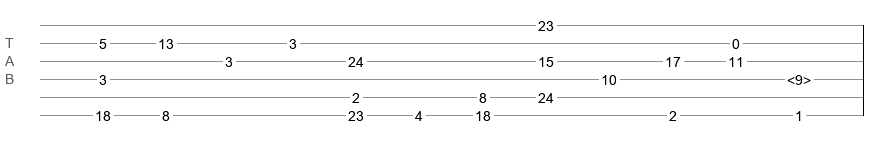0: (732, 36, 740, 46)
1: (795, 108, 803, 118)
10: (601, 72, 617, 82)
11: (728, 54, 744, 64)
13: (158, 36, 174, 46)
15: (538, 54, 554, 64)
17: (665, 54, 681, 64)
18: (95, 108, 111, 118), (475, 108, 491, 118)
2: (352, 90, 360, 100), (669, 108, 677, 118)
23: (348, 108, 364, 118), (538, 18, 554, 28)
24: (348, 54, 364, 64), (538, 90, 554, 100)
3: (99, 72, 107, 82), (225, 54, 233, 64), (289, 36, 297, 46)
4: (415, 108, 423, 118)
5: (99, 36, 107, 46)
8: (162, 108, 170, 118), (479, 90, 487, 100)
harmonic: (787, 72, 811, 82)
